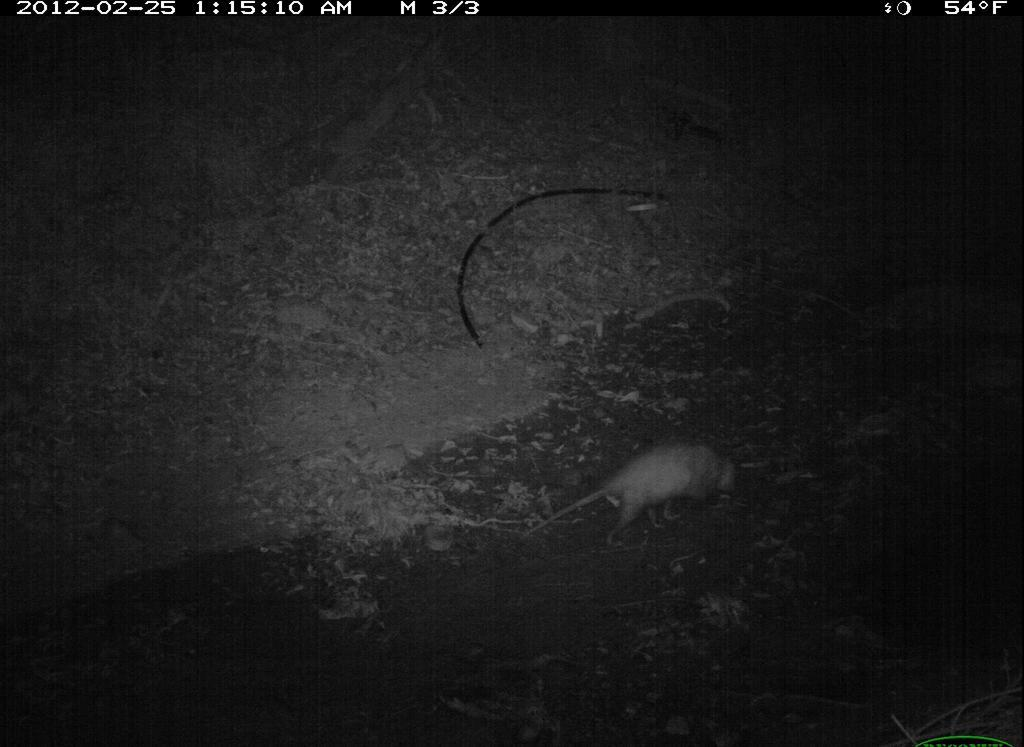opossum: (521, 424, 758, 557)
